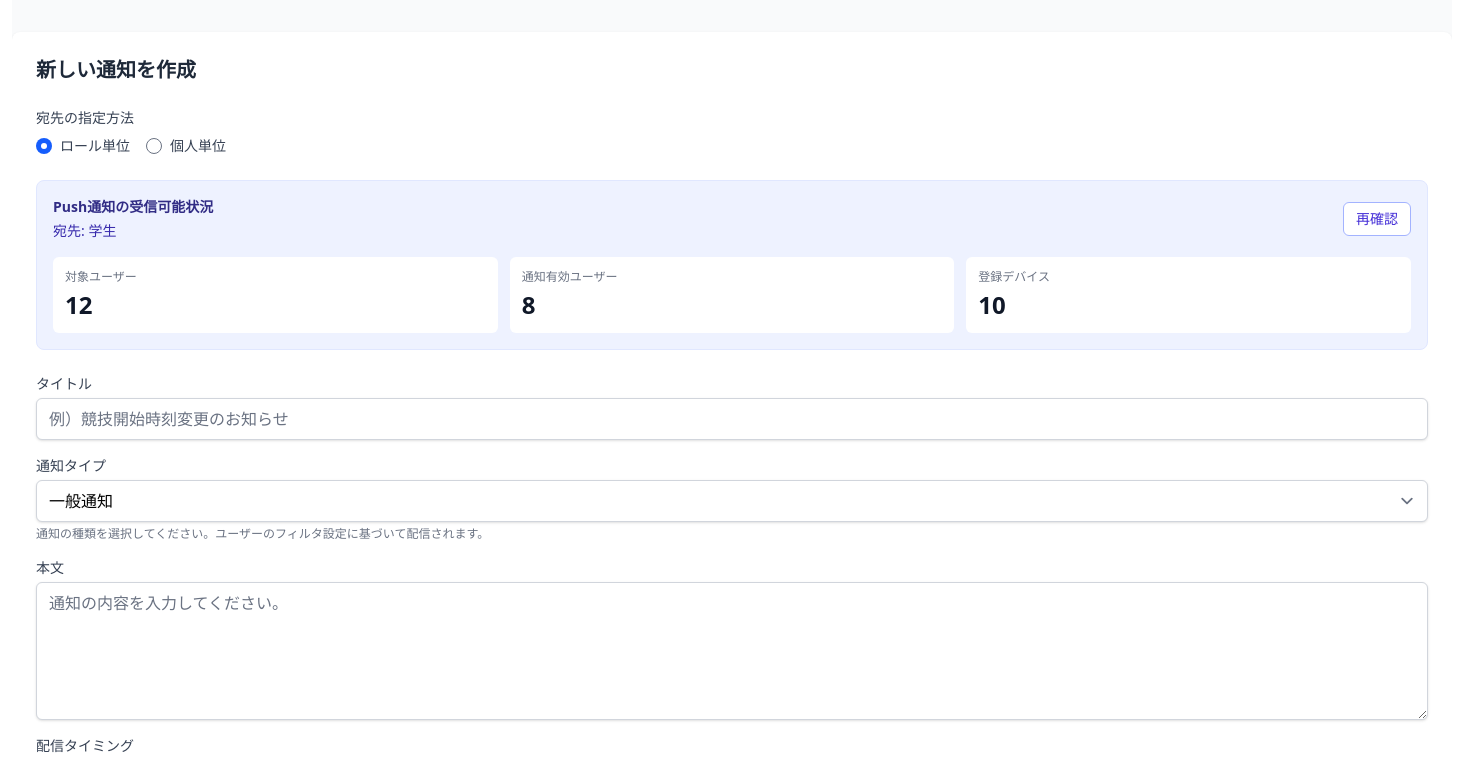
Test: Notification Management Page › 通知を作成して送信済み一覧を更新できる
Type "競技開始時間変更" into the field labelled "タイトル". click: (732, 419)
box: 36,398 -> 1428,440
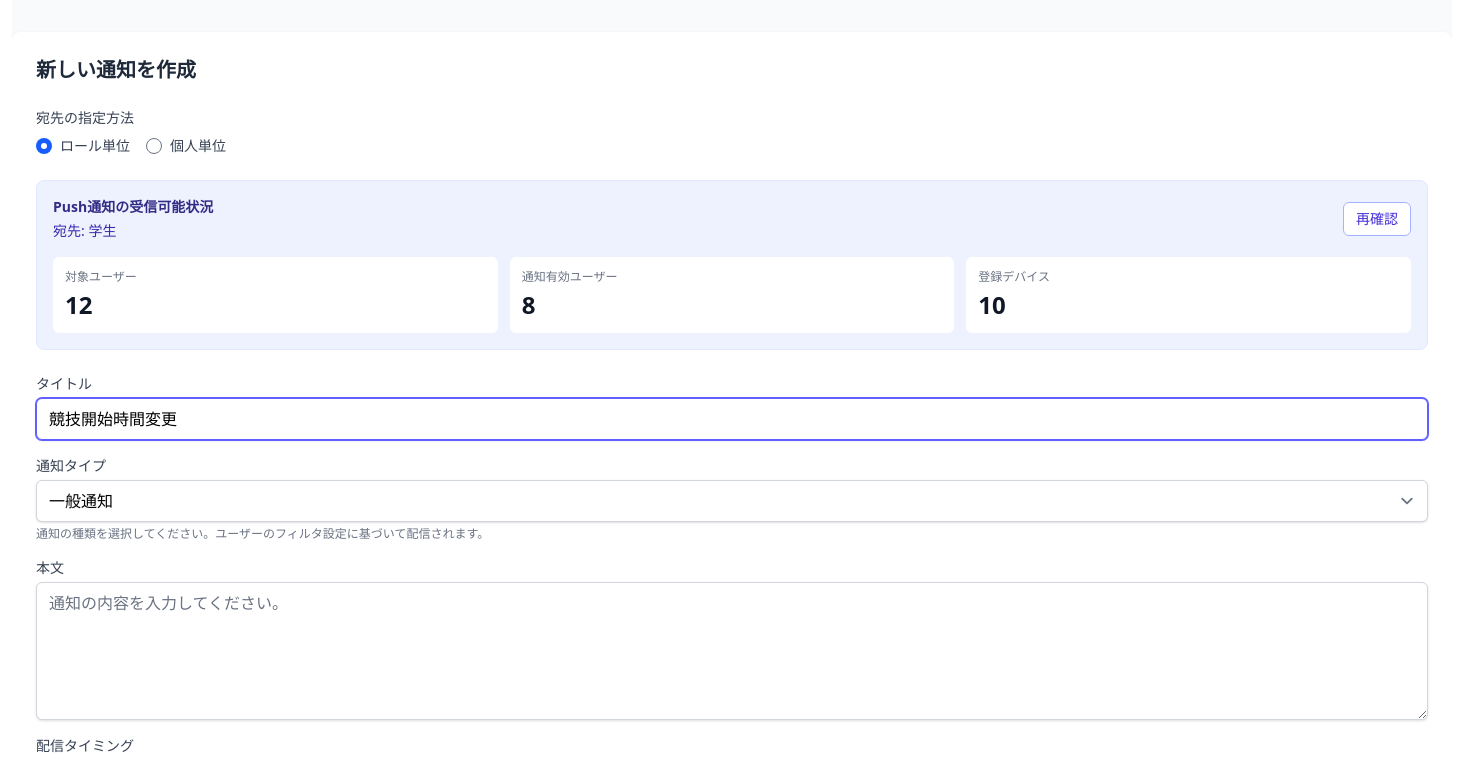
Type "バスケットボールの開始時刻が変更になりました。" into the text box labelled "本文". click: (732, 651)
box: 36,582 -> 1428,720
(page scrolled)
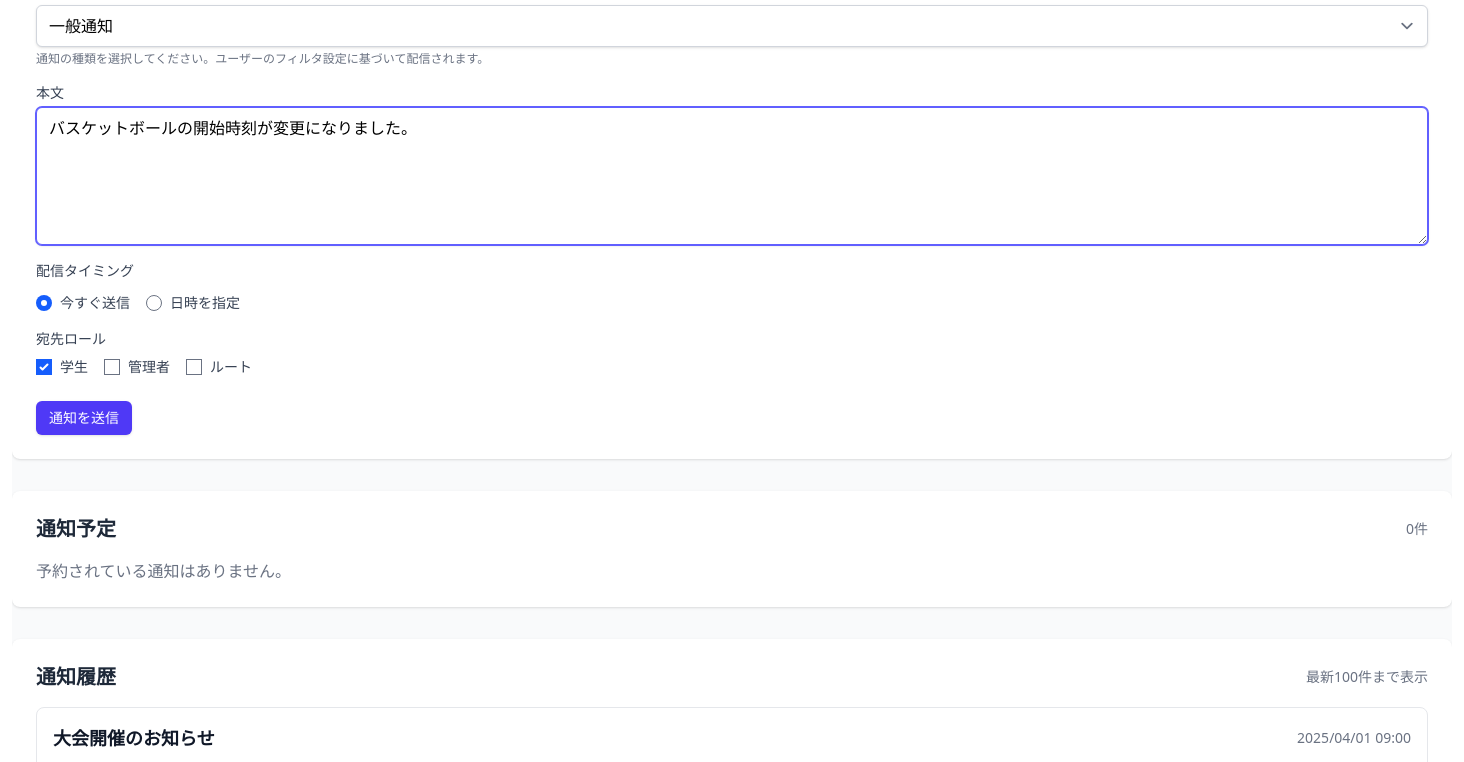
Click the checkbox labelled "管理者". click: (112, 367)
box: 104,359 -> 120,375
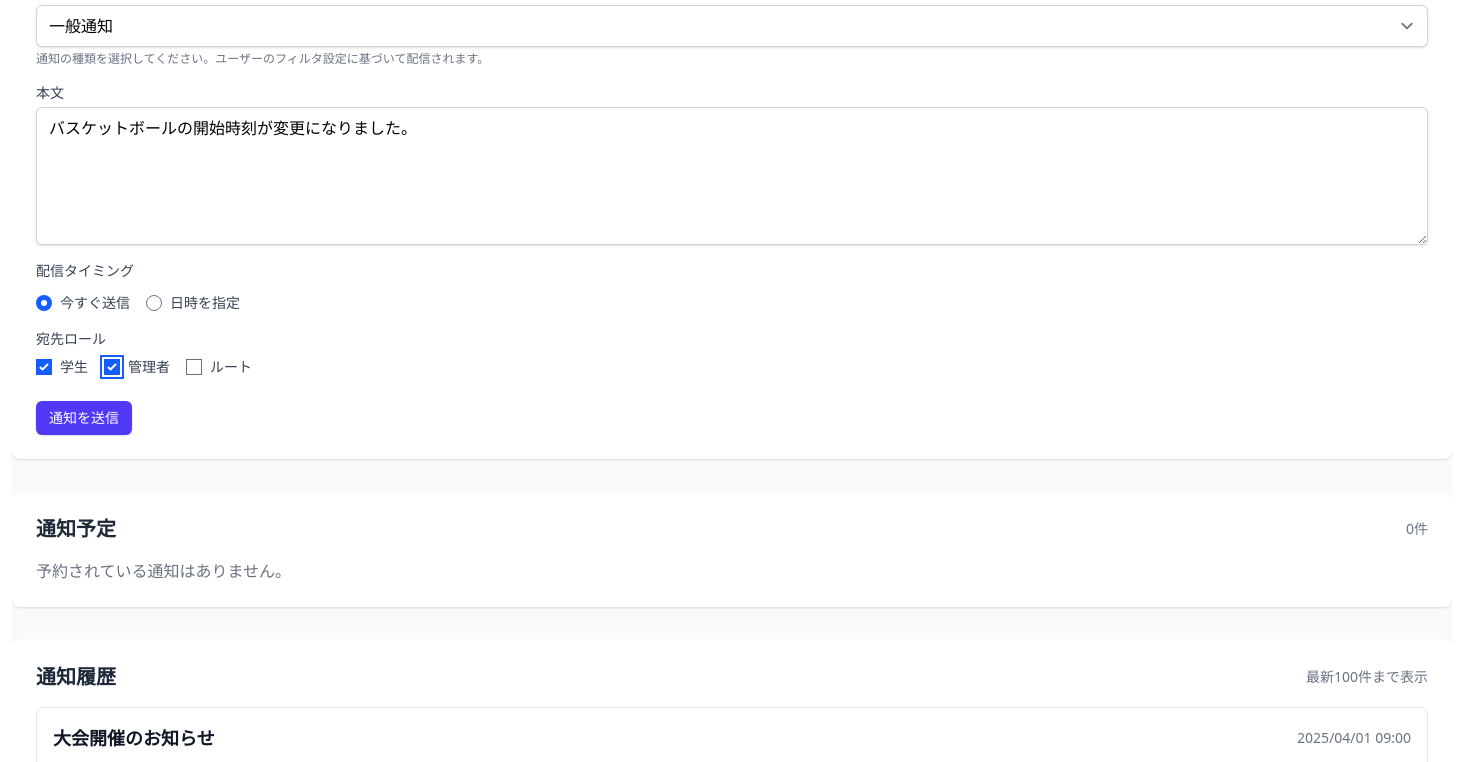
Click the button "通知を送信". click: (84, 418)
box: 36,401 -> 132,435
(page scrolled)
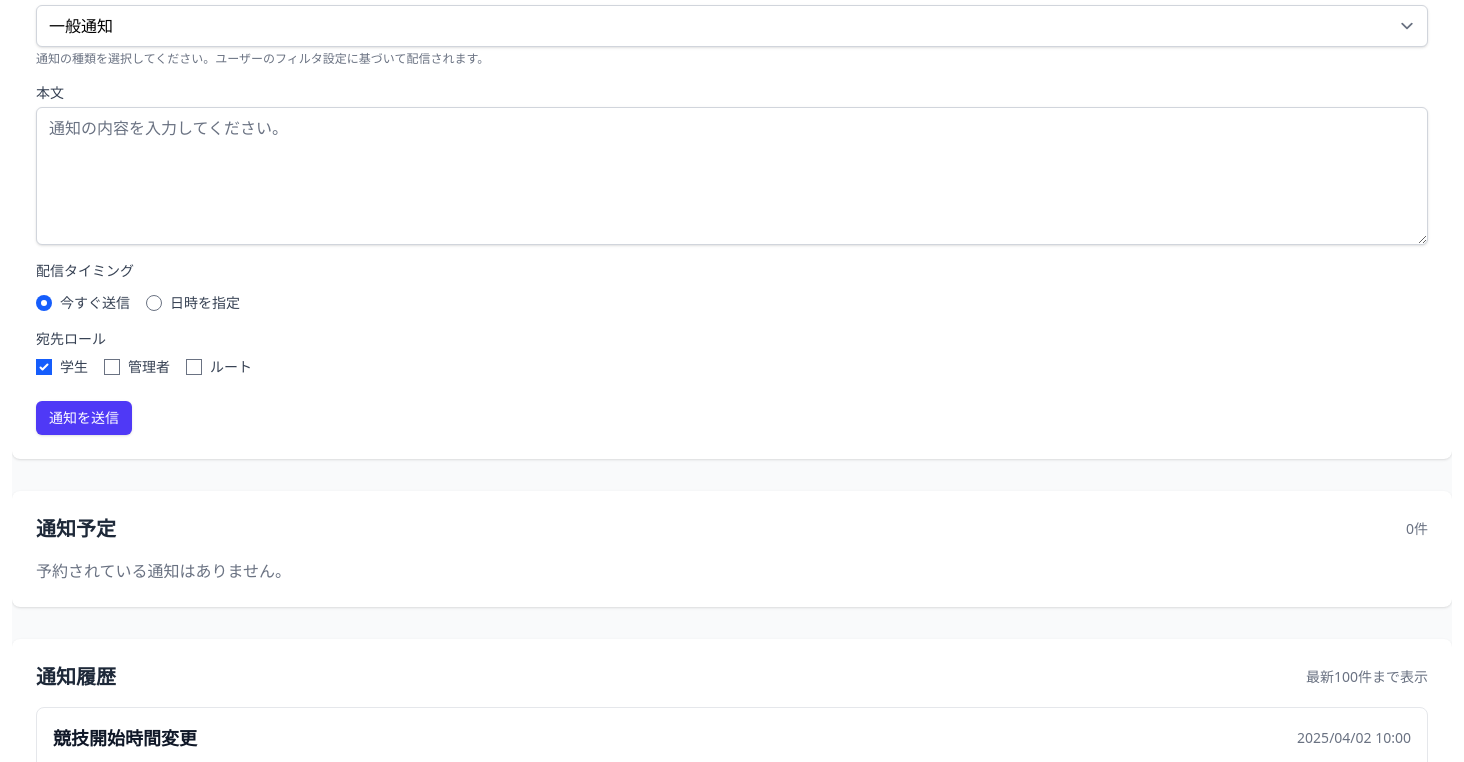
Expected: the heading "競技開始時間変更" is shown, 53,724 -> 197,752
